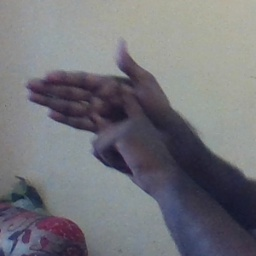R: (23, 35, 162, 169)
